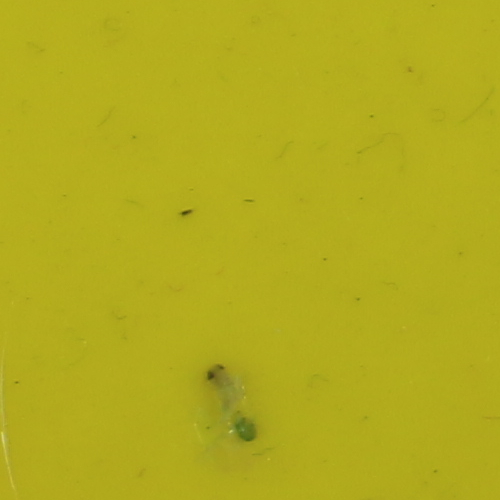psylla: (201, 362, 254, 442)
